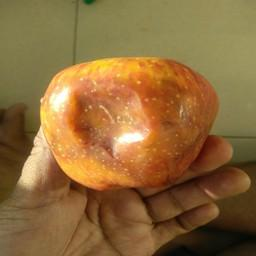Bad_apple: (40, 50, 209, 181)
